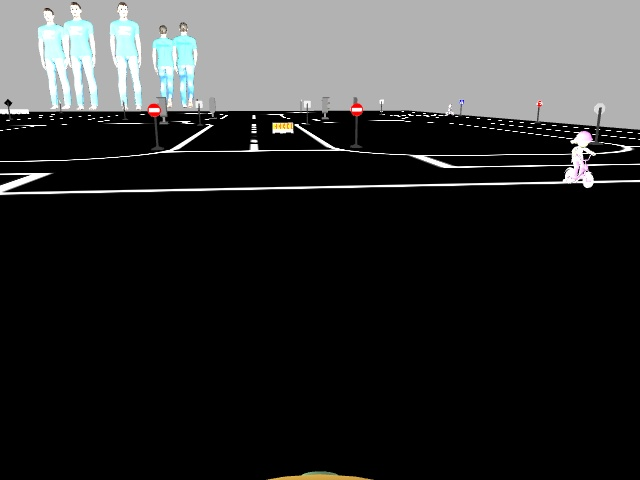ClosedRoadStand: (272, 122, 293, 132)
NoEntry: (146, 104, 159, 118), (350, 104, 363, 116)
Pedestrian: (566, 135, 595, 187)
